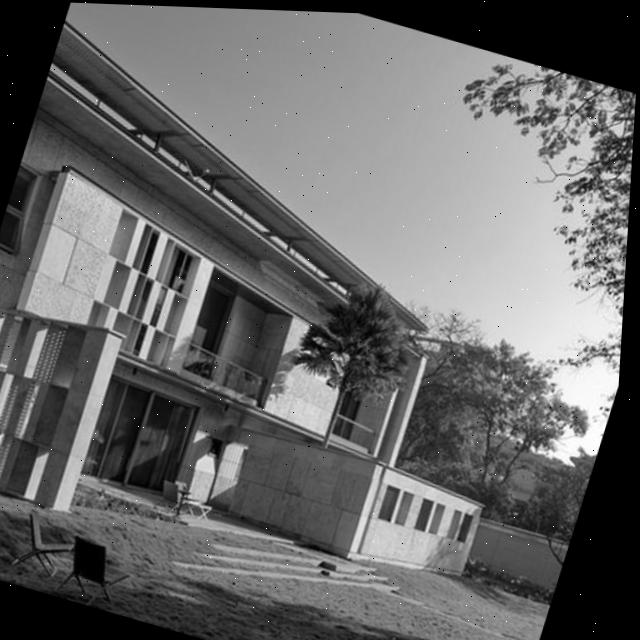building: (0, 16, 596, 629)
